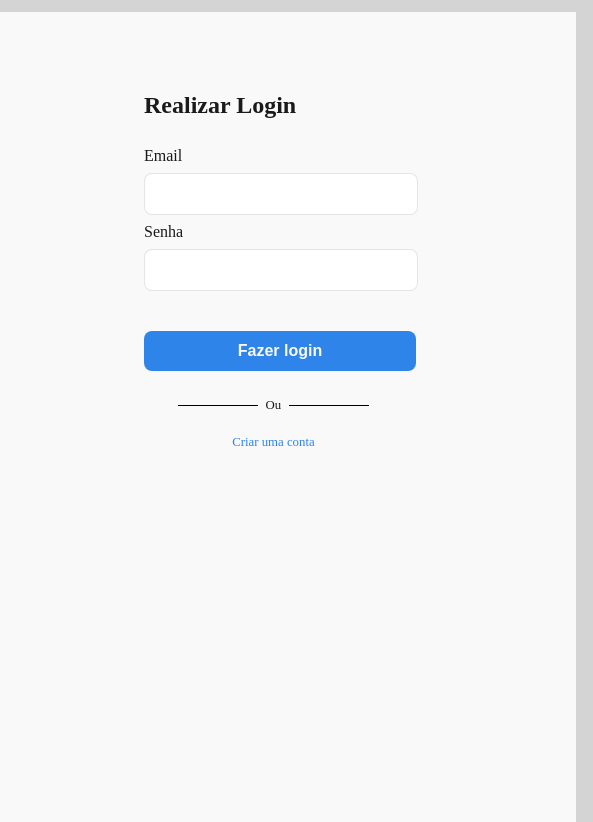
Signup related tests › should signin an user
This screenshot has width=593, height=822.
Type "johndoe@gmail.com" into the field titled "email" at [281, 194], box x1=144 y1=173 x2=418 y2=215
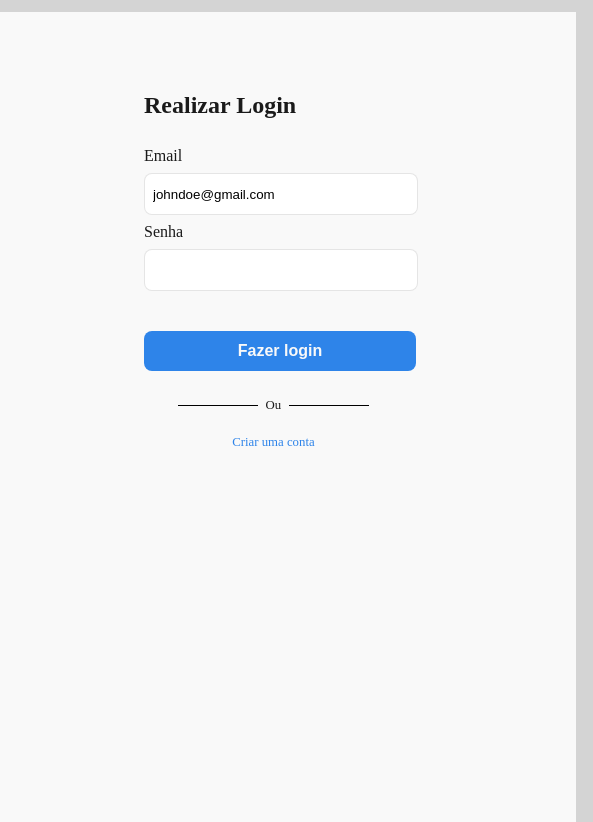
Type "1234abcd" into the password field titled "password" at [281, 270], box x1=144 y1=249 x2=418 y2=291
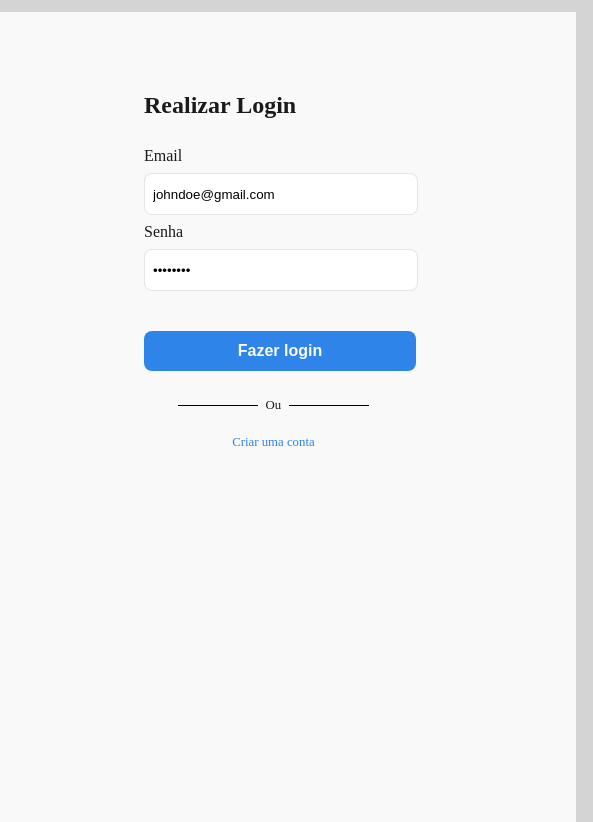
Click the button titled "submit" at [280, 351], box x1=144 y1=331 x2=416 y2=371
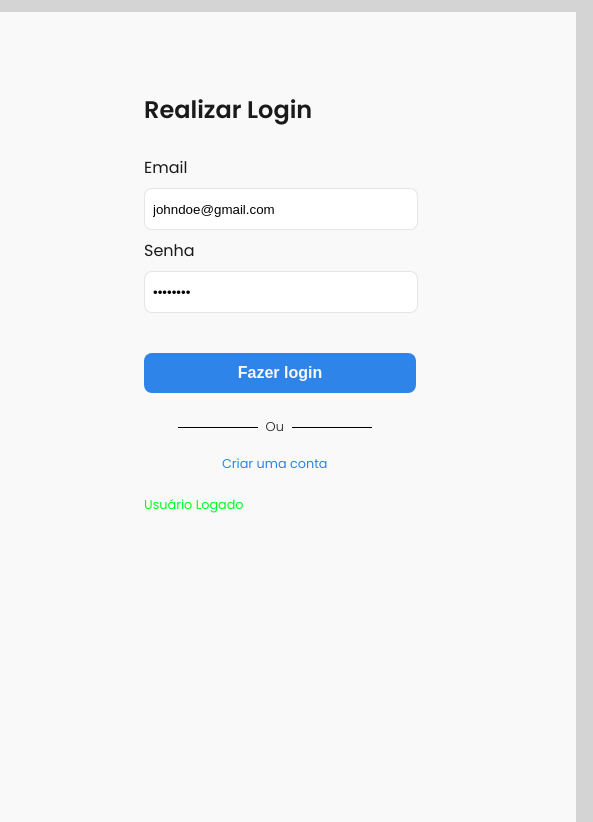
Expected: the text titled "response-message" reads "Usuário Logado", x1=144 y1=496 x2=244 y2=513
